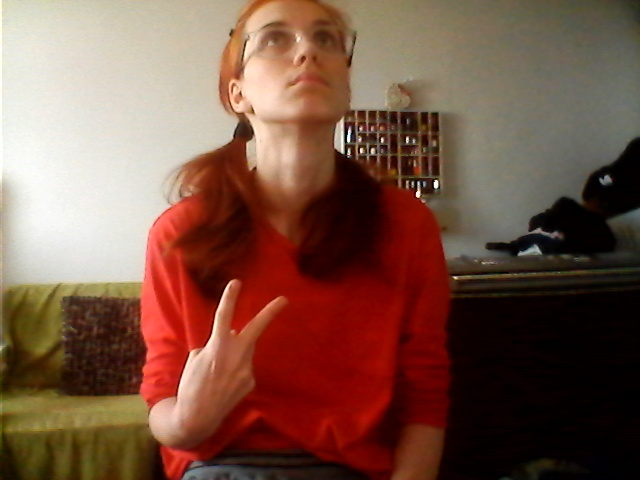v: (185, 270, 306, 420)
